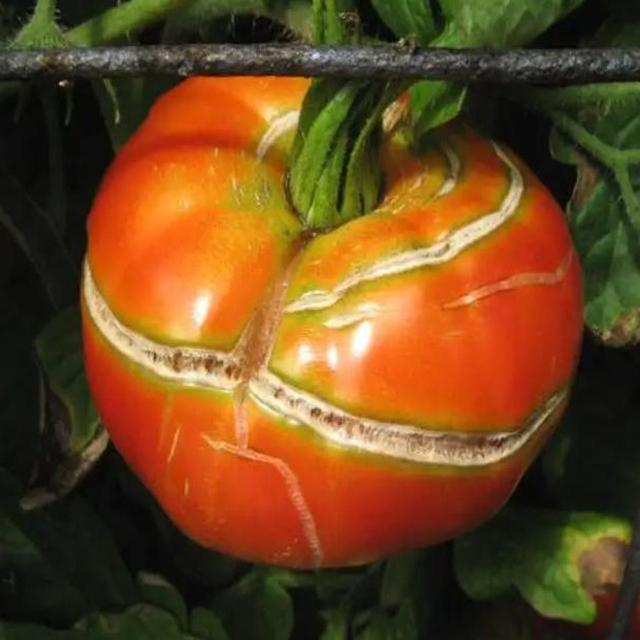Cracking Fruit: (220, 135, 337, 238)
